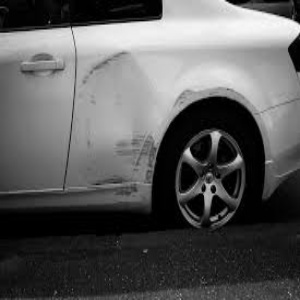door_scratch: (79, 44, 159, 205)
